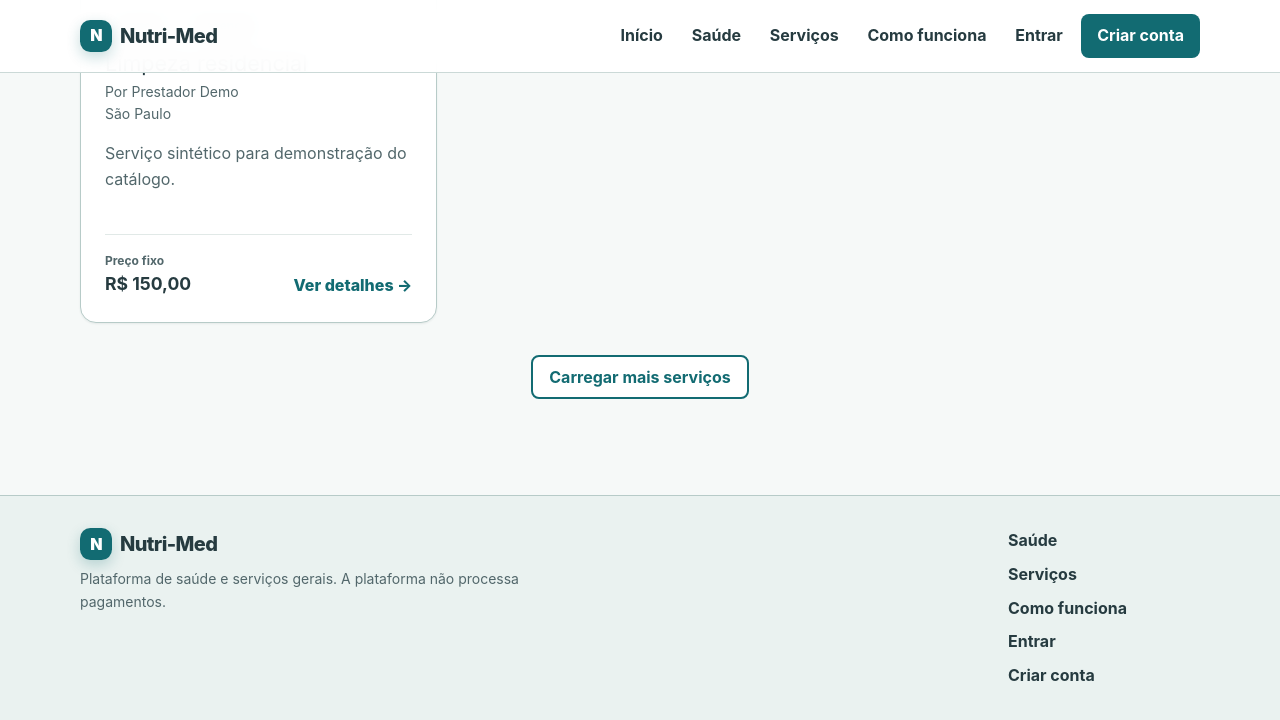
Test: catálogo público › preserva paginação por cursor e remove itens duplicados
The image size is (1280, 720).
(page scrolled)
Expected: the heading "Limpeza residencial" is shown, [105,50,308,76]
Step 1. Click the button "Carregar mais serviços" → (640, 378), box [531,356,749,400]
(page scrolled)
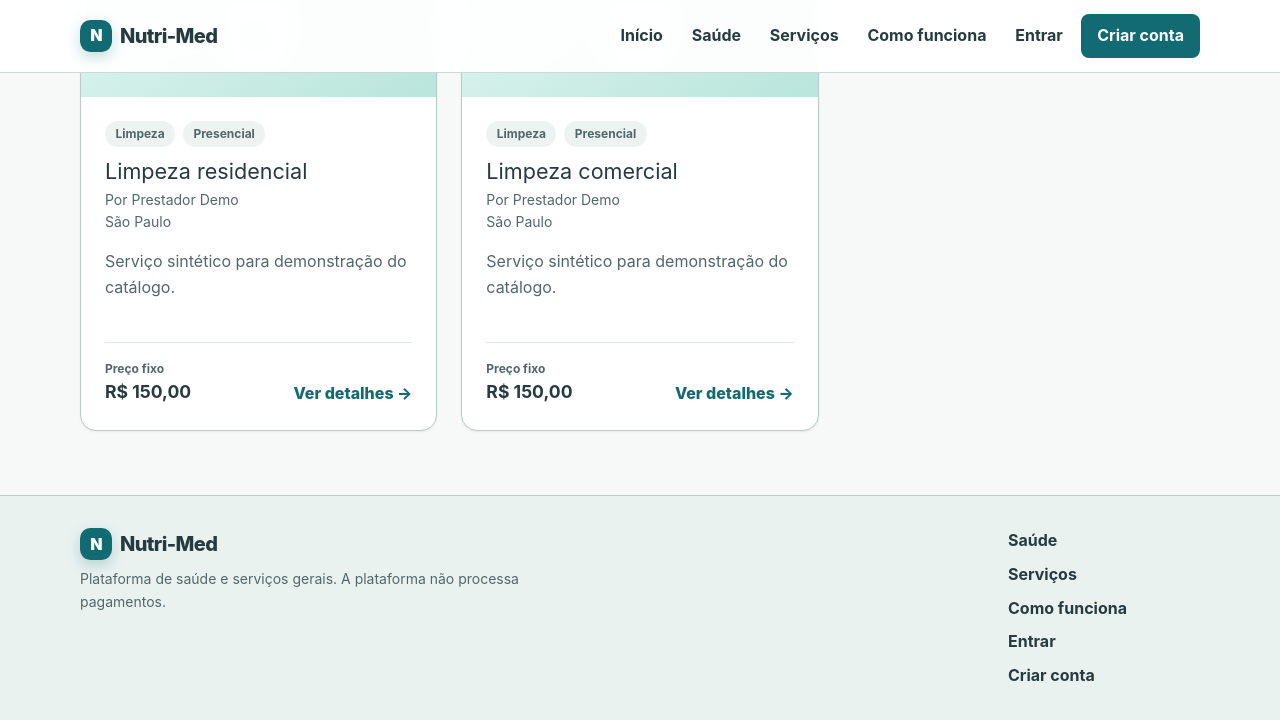
Result: the heading "Limpeza comercial" is shown at [486,158,678,184]
Result: the number of headings "Limpeza residencial" is 1 at [105,158,308,184]
